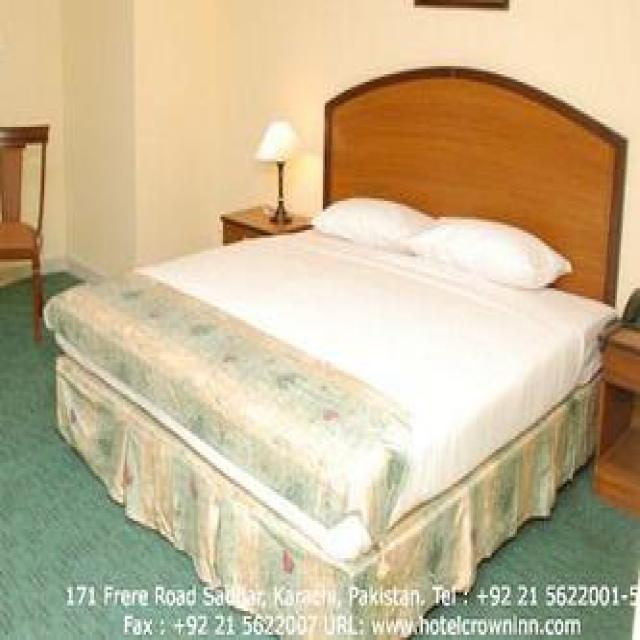bed: (45, 66, 626, 640)
